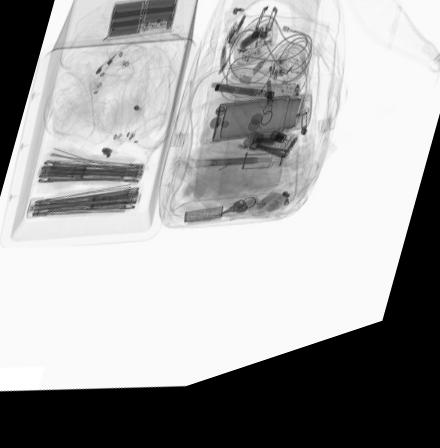Powerbank: (104, 2, 178, 44)
